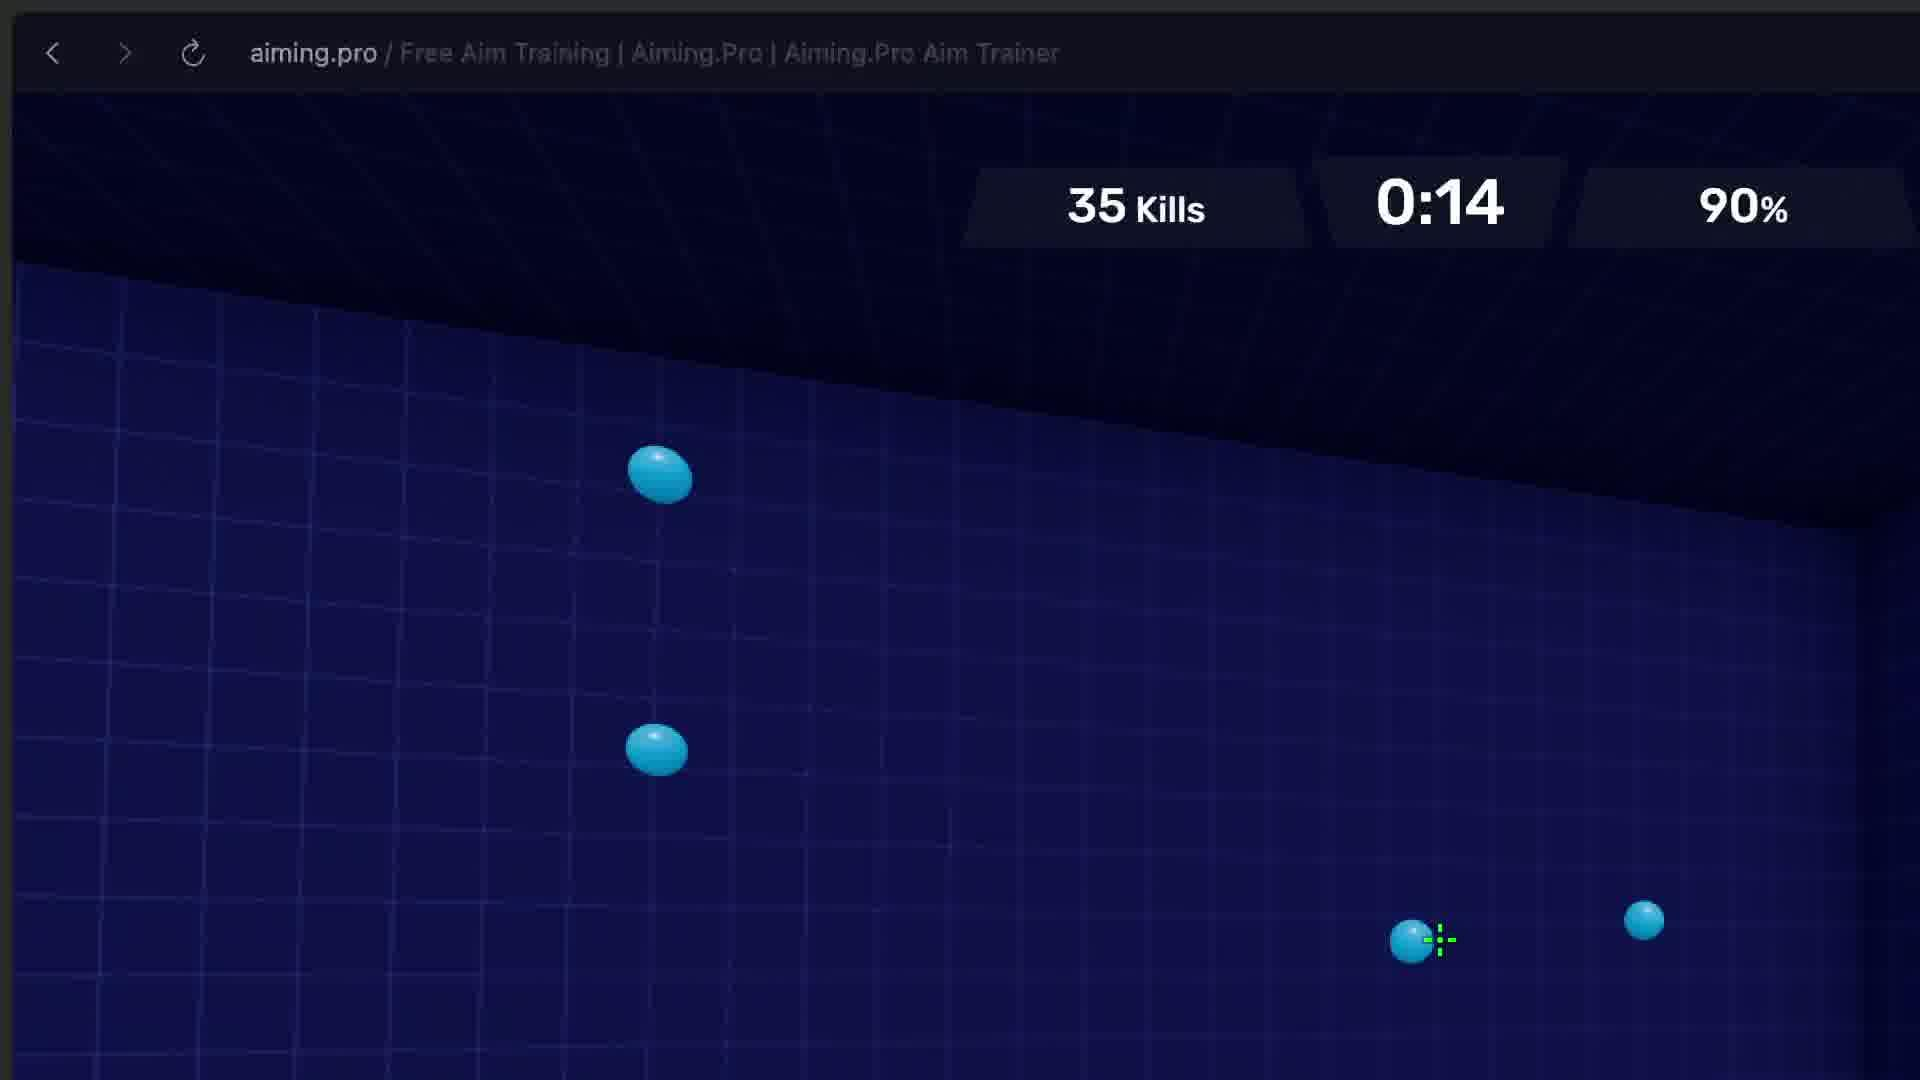target: (626, 444, 692, 504), (626, 721, 688, 775), (1389, 919, 1457, 964), (1625, 899, 1665, 940)
